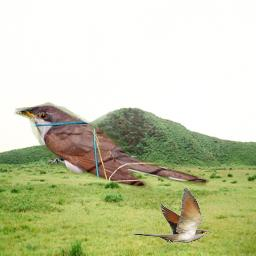Cuckoo: (14, 100, 213, 196), (132, 188, 211, 243)
